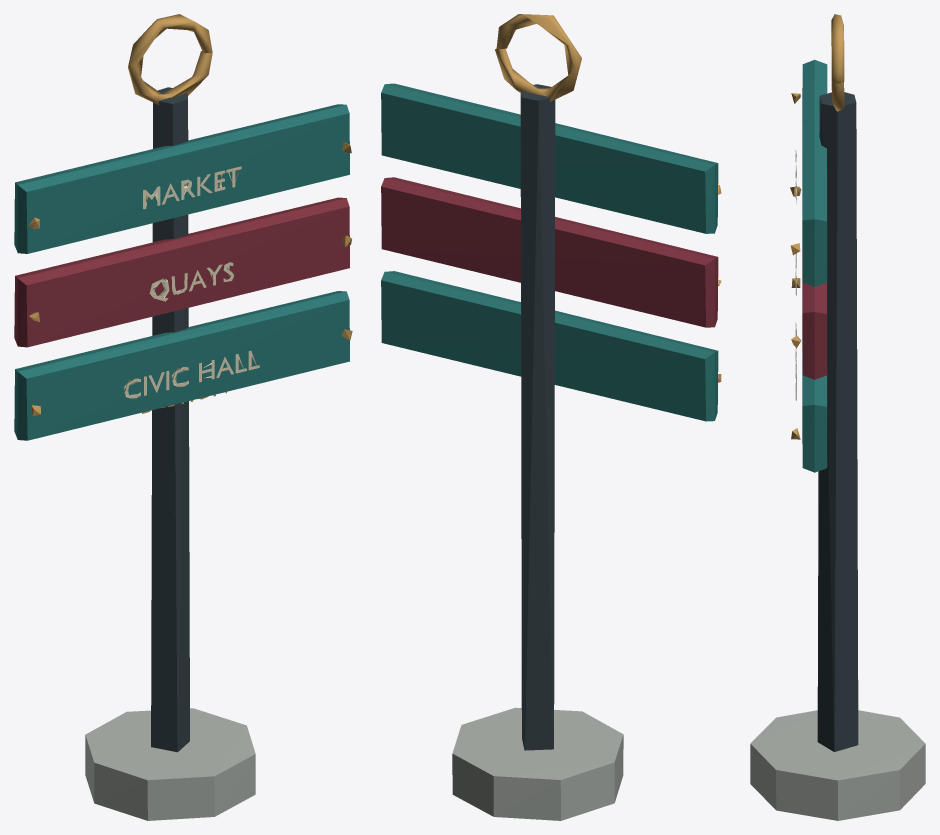
The model's file is prop_aegis_civic_waymarker_lod2.glb.
3 views of the same model, side by side, from view 1: azimuth 30°, elevation 25°; view 2: azimuth 150°, elevation 25°; view 3: azimuth 270°, elevation 25° (orthographic).
Visible parts, largest first — view 1: aegis_civic_waymarker.001; view 2: aegis_civic_waymarker.001; view 3: aegis_civic_waymarker.001.
Part boxes in pixels (x1,y1,x2,y2): aegis_civic_waymarker.001: (14,14,352,820); aegis_civic_waymarker.001: (381,14,721,820); aegis_civic_waymarker.001: (750,14,925,820).
Size of the model in its own units: 1.62 by 3.62 by 0.7534.
